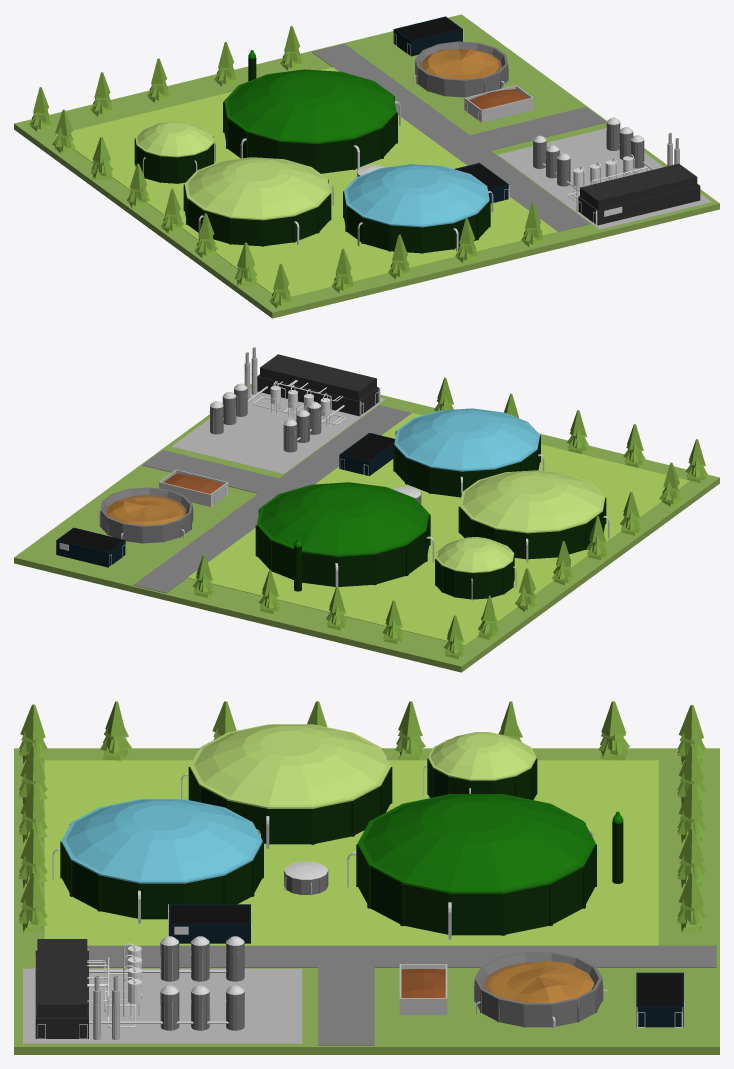
File: biogas_plant_H.fbx
3 views of the same model, one above another, from view 1: azimuth 30°, elevation 25°; view 2: azimuth 150°, elevation 25°; view 3: azimuth 270°, elevation 25° (orthographic). The views are drawn at different scales.
Visible parts, largest first — view 1: Cube.073, Cylinder.004, Cylinder.006, Cylinder.007, Cube.082, Cylinder.017, Cylinder.008, Cube.079, Cube.081, Cylinder.010, Cube.074, tree_house_H.063 (+16 smaller); view 2: Cube.073, Cylinder.004, Cylinder.006, Cylinder.007, Cylinder.017, Cylinder.008, Cube.082, Cube.081, Cube.074, Cube.079, Cylinder.010, tree_house_H.061 (+14 smaller); view 3: Cube.073, Cylinder.004, Cylinder.007, Cylinder.006, Cylinder.017, Cylinder.008, Cube.082, Cube.074, Cube.081, Cube.079, Cylinder.010, Cylinder.009 (+20 smaller).
Part boxes in pixels (x1,y1,x2,y2): Cube.073: [14, 14, 719, 318]; Cylinder.004: [223, 69, 400, 173]; Cylinder.006: [183, 157, 333, 246]; Cylinder.007: [343, 164, 493, 253]; Cube.082: [576, 163, 700, 225]; Cylinder.017: [413, 41, 508, 97]; Cylinder.008: [134, 121, 215, 183]; Cube.079: [464, 85, 533, 122]; Cube.081: [393, 16, 463, 56]; Cylinder.010: [567, 154, 648, 201]; Cube.074: [454, 163, 509, 203]; tree_house_H.063: [235, 242, 257, 286]; Cube.073: [14, 384, 719, 672]; Cylinder.004: [255, 482, 434, 587]; Cylinder.006: [458, 470, 609, 562]; Cylinder.007: [393, 408, 544, 497]; Cylinder.017: [97, 487, 193, 543]; Cylinder.008: [435, 537, 516, 601]; Cube.082: [257, 354, 380, 416]; Cube.081: [56, 527, 125, 567]; Cube.074: [339, 432, 395, 476]; Cube.079: [159, 469, 228, 506]; Cylinder.010: [253, 380, 345, 426]; tree_house_H.061: [515, 568, 538, 612]; Cube.073: [14, 748, 719, 1054]; Cylinder.004: [347, 794, 596, 939]; Cylinder.007: [52, 799, 263, 923]; Cylinder.006: [181, 724, 392, 848]; Cylinder.017: [474, 952, 607, 1029]; Cylinder.008: [423, 732, 537, 799]; Cube.082: [35, 939, 88, 1038]; Cube.074: [168, 904, 251, 943]; Cube.081: [636, 972, 684, 1027]; Cube.079: [399, 964, 447, 1015]; Cylinder.010: [87, 943, 141, 1027]; Cylinder.009: [89, 936, 228, 1023].
Bounding box in the file's own units: 39.56 × 39.56 × 4.84.
2 materials, 2 textured.
